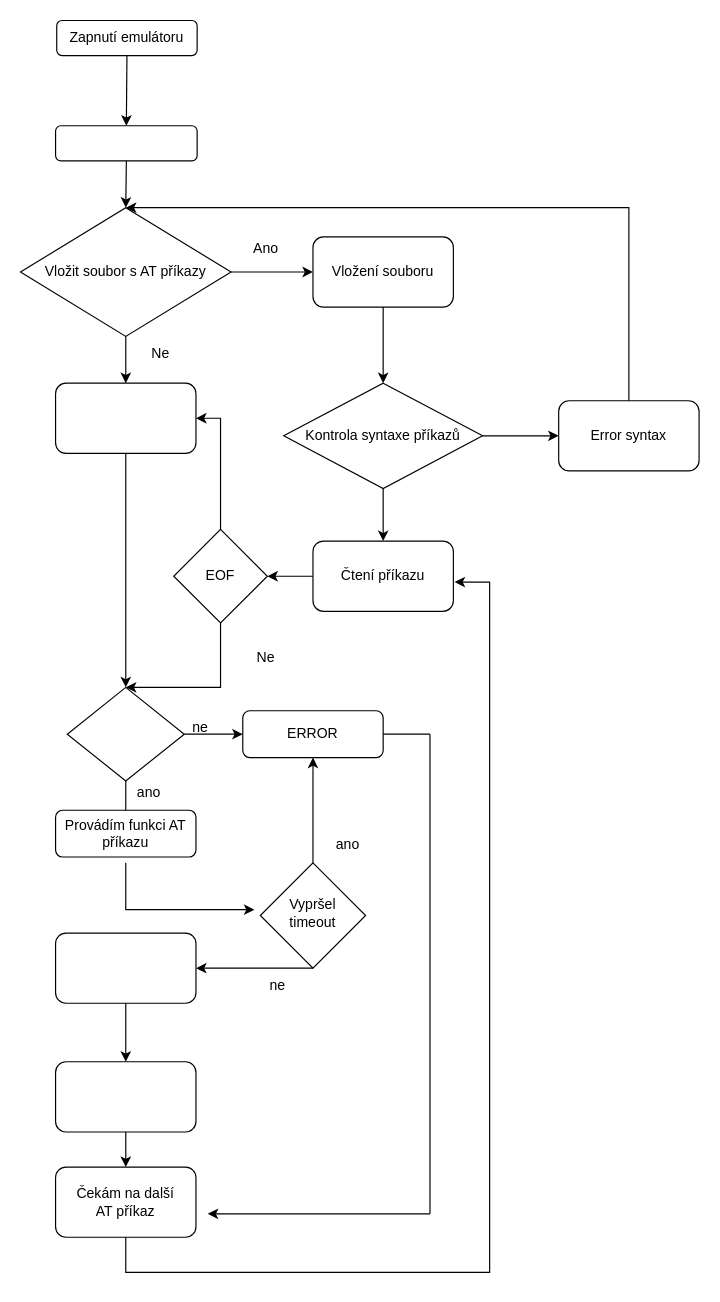
This 720x1302 diagram has some shape labels left out. Here are the shapes that lost their labels. From the top down, the centre of each, then its label:
(x=125, y=143): Vybráni si modemu
(x=125, y=417): Čekání na AT příkaz
(x=125, y=733): Našel jsem AT
(x=125, y=967): Vypisuju odpovědi na výstup
(x=125, y=1096): OK
